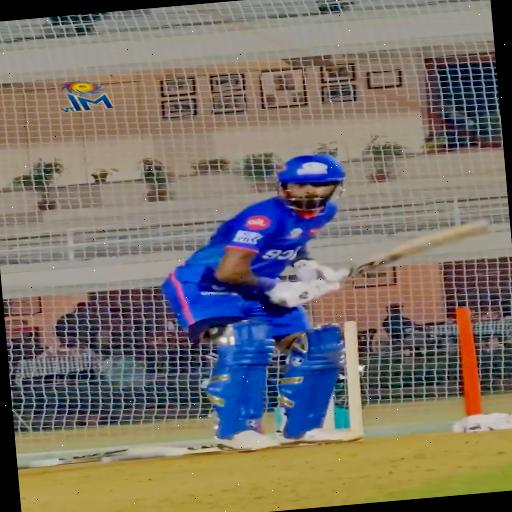Cricket bat: (352, 220, 489, 275)
